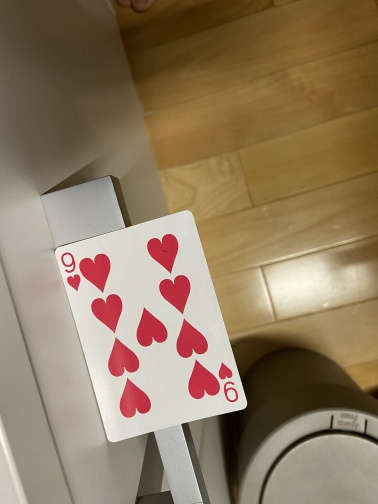nine: (53, 208, 250, 444)
